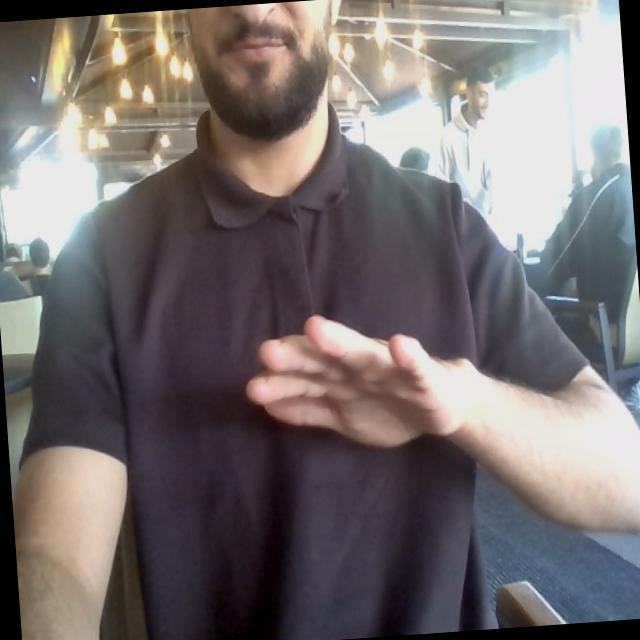Hand: (247, 316, 475, 447)
